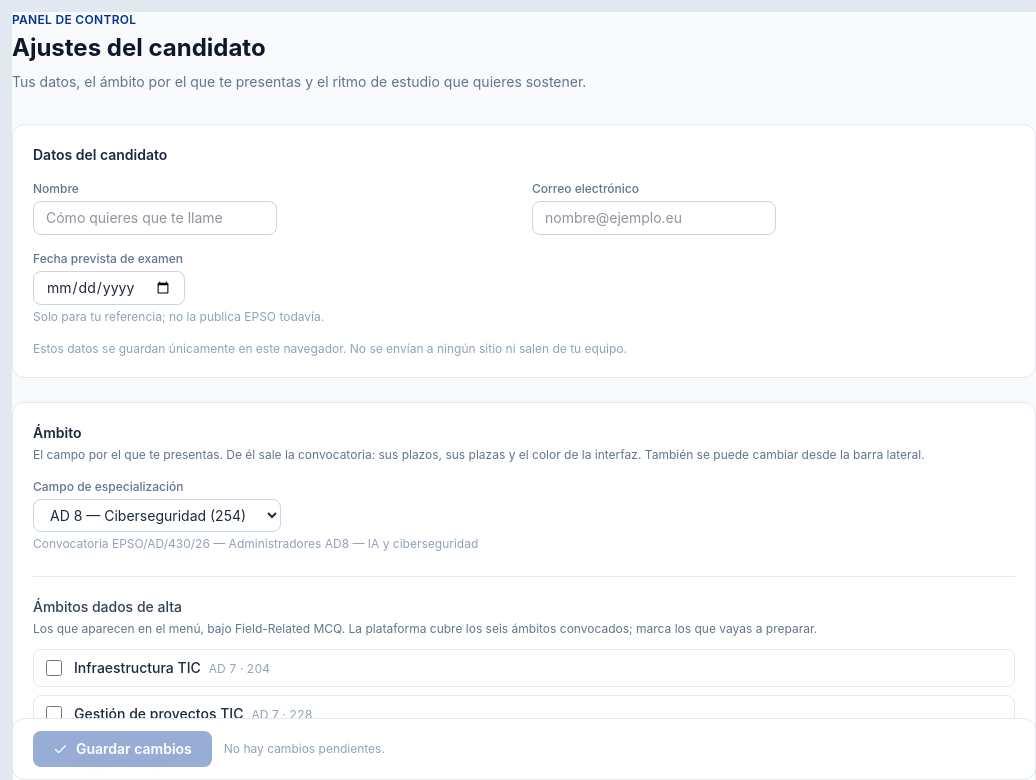
Test: confirmación de cambios › volver a editar tras guardar vuelve a marcar pendiente
Step 1. Type "Miguel" into the field labelled "Nombre" → (155, 218), box [33,201,277,235]
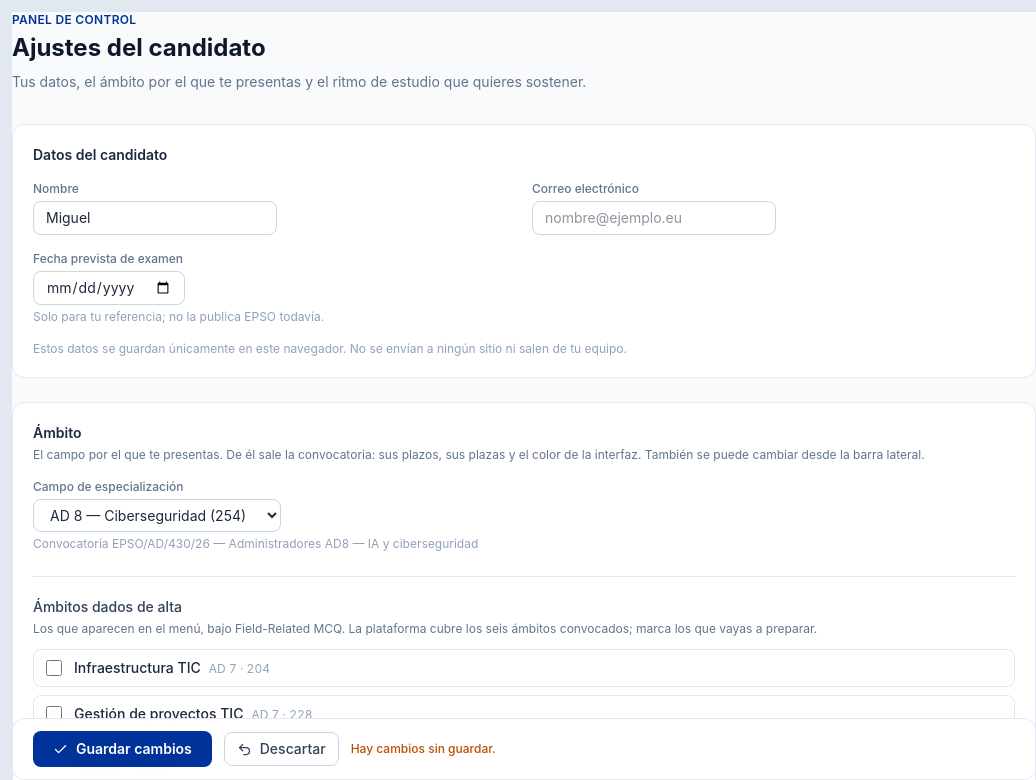
Step 2. Click the button "Guardar cambios" → (122, 749), box [33,731,212,767]
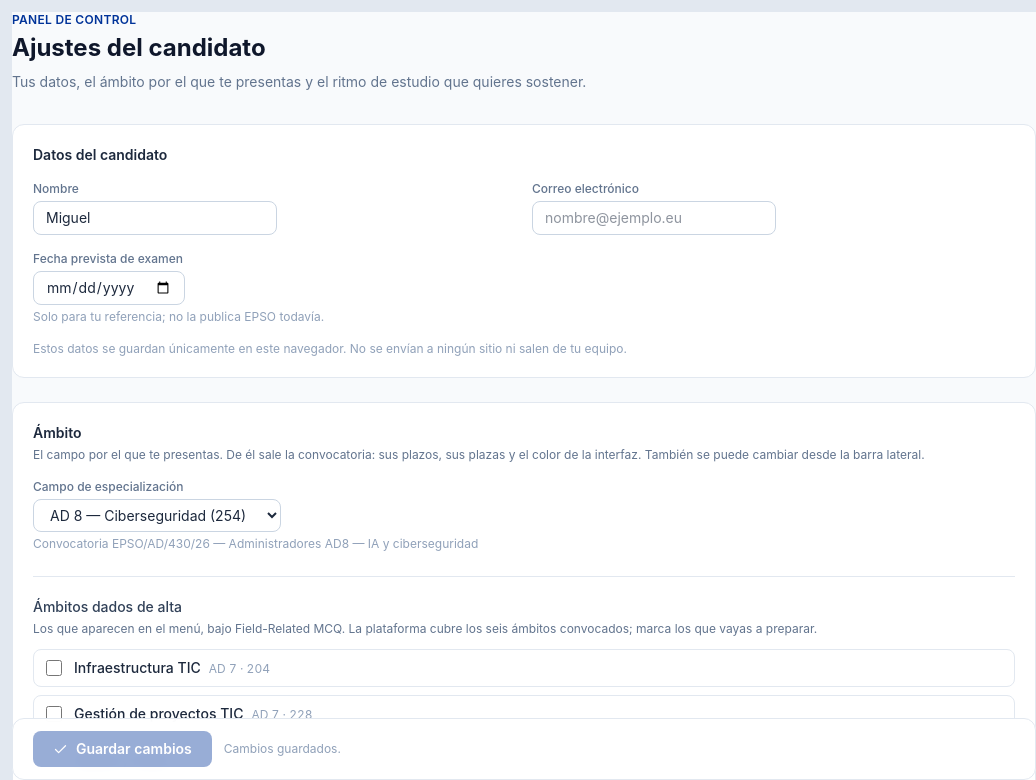
Step 3. Replace the text in the field labelled "Nombre" with "Miguel R." → (155, 218), box [33,201,277,235]
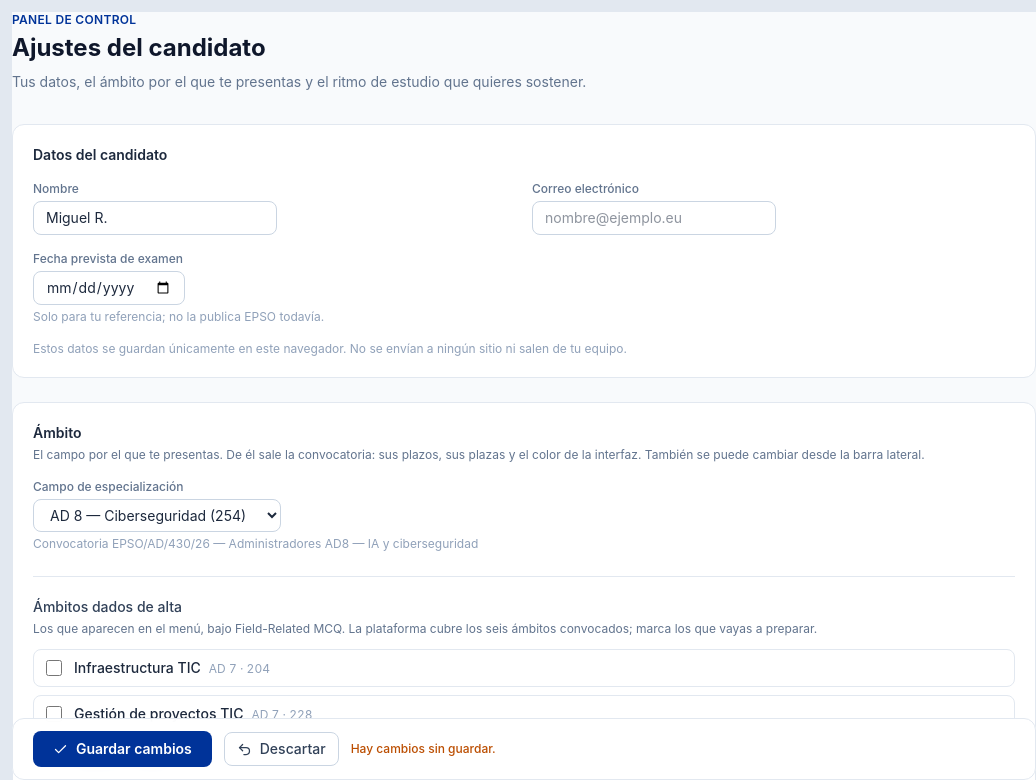
Expected: the text "Hay cambios sin guardar." is shown, [351,741,496,757]
Expected: the text "Cambios guardados." is gone
